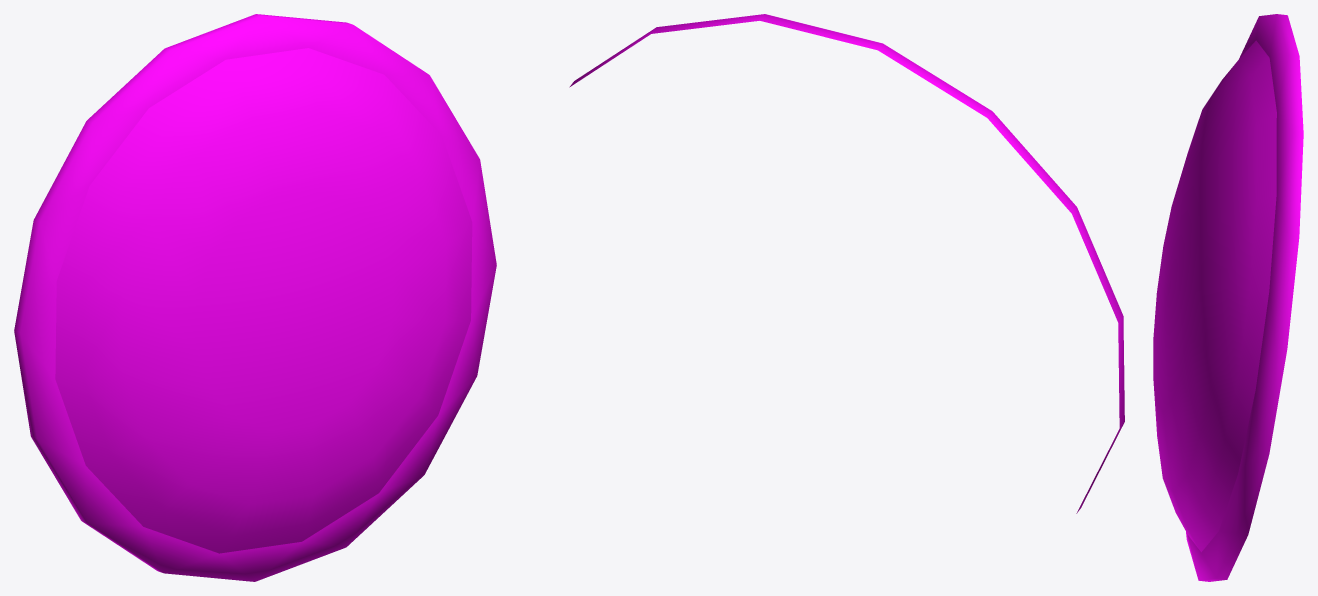
Rendered from pelte_01_front.glb.
3 renders of one model, left to right at view 1: azimuth 30°, elevation 25°; view 2: azimuth 150°, elevation 25°; view 3: azimuth 270°, elevation 25°, orthographic. The views are drawn at different scales.
Visible parts, largest first — view 1: Cubo_003-mesh; view 2: Cubo_003-mesh; view 3: Cubo_003-mesh.
Part boxes in pixels (<box>): Cubo_003-mesh: <box>14,14,496,581</box>; Cubo_003-mesh: <box>569,14,1124,513</box>; Cubo_003-mesh: <box>1153,14,1303,581</box>.
Bounding box in the file's own units: 1.4 × 1.39 × 0.3679.
